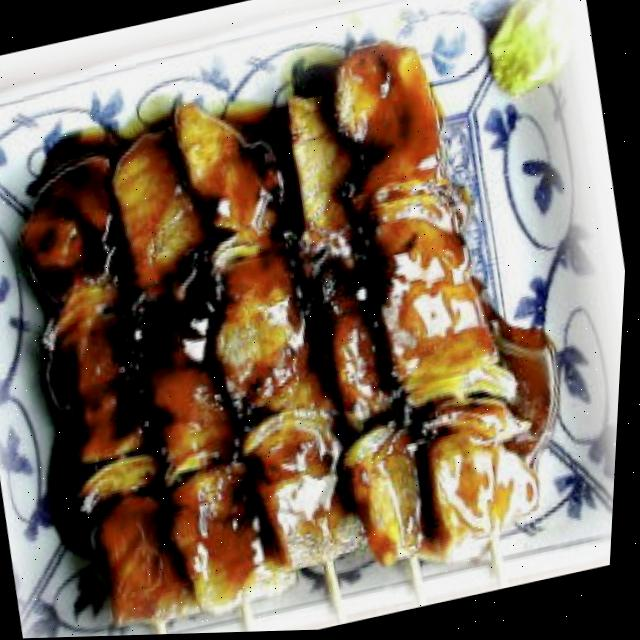烧串烤肉: (0, 10, 609, 640)
